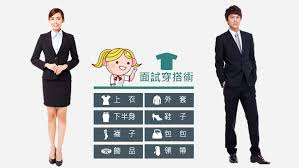F_M_suit jacket: (213, 25, 259, 93)
F_W_suit jacket: (29, 28, 83, 79)
F_dress pants: (222, 80, 264, 150)
F_tailored skirt: (40, 74, 77, 115)
F_tie: (233, 31, 245, 52)
